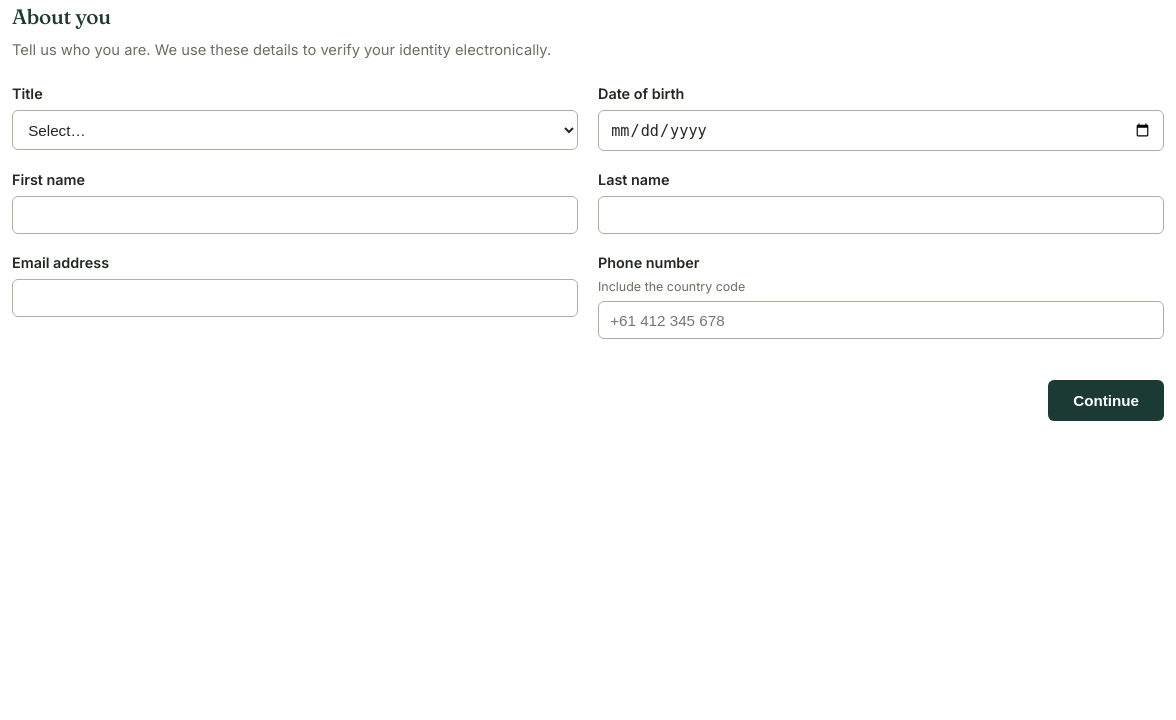
Test: PersonalStep › shows validation errors and does not advance when empty
This screenshot has width=1176, height=720.
Click the button "Continue" at (1106, 401), box [1048, 380, 1164, 421]
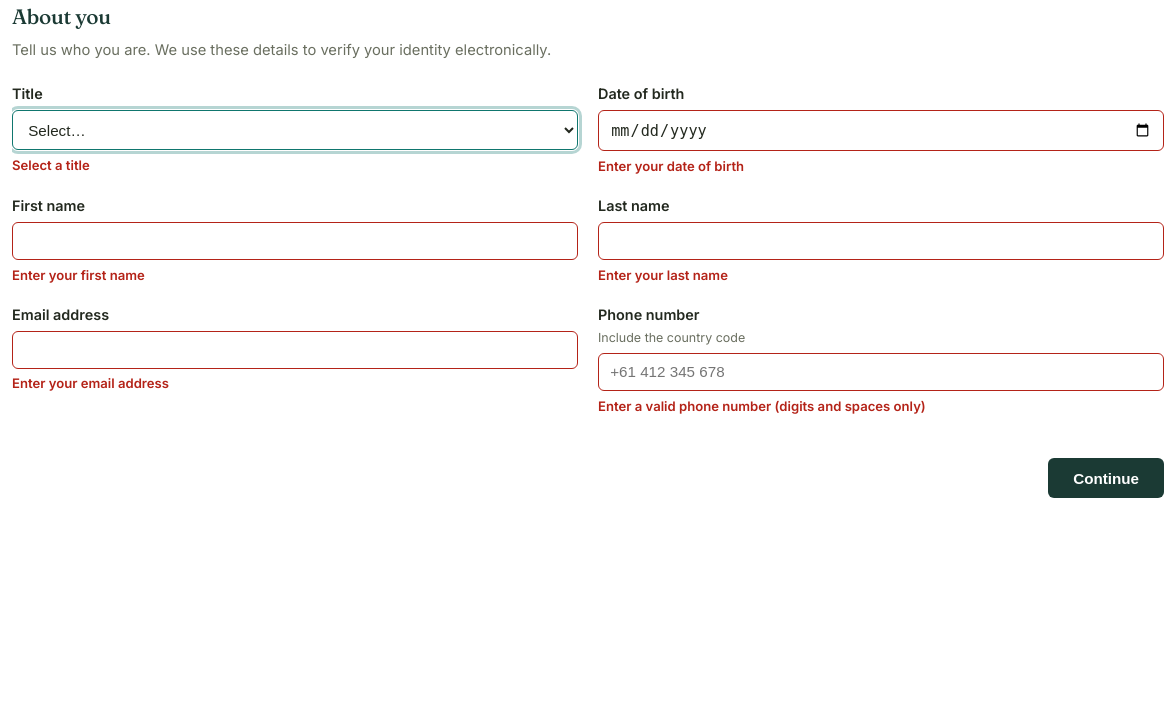
Now the message "Select a title" is shown, box [12, 157, 90, 173]
